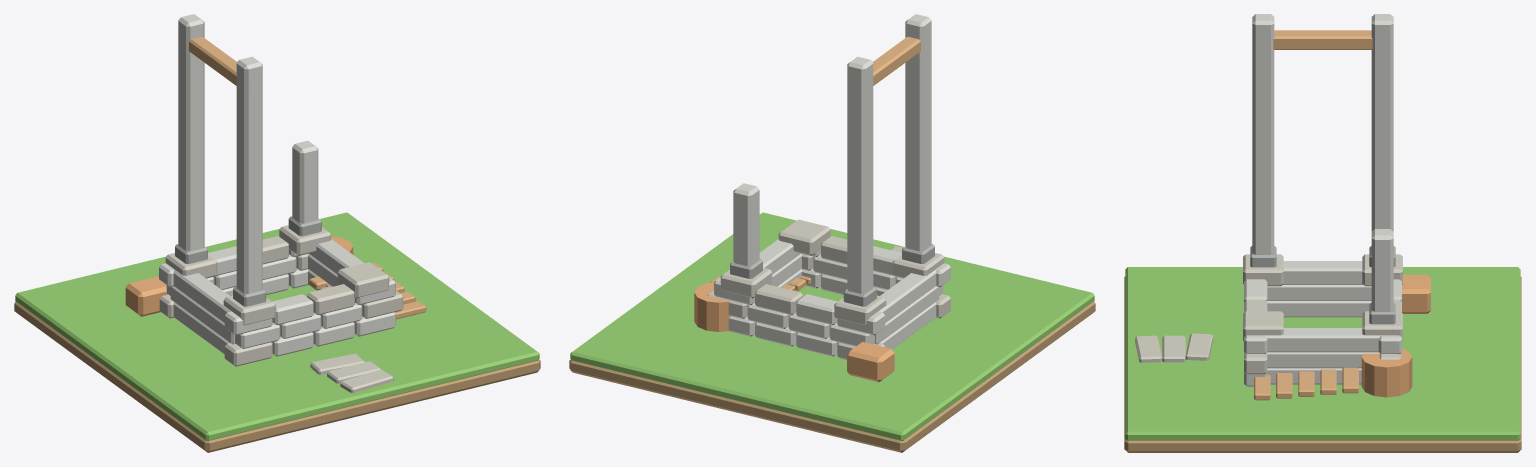
The model's file is tower_l06_construction_LOD0.glb.
3 views of the same model, side by side, from view 1: azimuth 30°, elevation 25°; view 2: azimuth 150°, elevation 25°; view 3: azimuth 270°, elevation 25° (orthographic). The views are drawn at different scales.
Visible parts, largest first — view 1: tower_l06_grass_tile, tower_l06_earth_tile, post_-0.61_-0.54, post_-0.61_0.54, post_0.61_0.54, stone_return_2_-0.72, foot_0.61_-0.54, unmounted_instrument_case, temporary_crossbar, stone_course_2_-1_2, stone_return_1_-0.72, stone_return_2_0.72 (+20 smaller); view 2: tower_l06_grass_tile, tower_l06_earth_tile, post_-0.61_0.54, post_-0.61_-0.54, post_0.61_0.54, unmounted_instrument_case, stone_return_2_-0.72, unmounted_relay_drum, foot_0.61_-0.54, temporary_crossbar, stone_course_2_1_2, stone_return_1_-0.72 (+15 smaller); view 3: tower_l06_grass_tile, tower_l06_earth_tile, post_-0.61_-0.54, post_-0.61_0.54, stone_return_2_0.72, unmounted_relay_drum, temporary_crossbar, stone_return_2_-0.72, post_0.61_0.54, stone_return_1_-0.72, stone_return_1_0.72, stone_return_0_-0.72 (+20 smaller).
Boxes of the visible parts, bbox=[...] form: tower_l06_grass_tile: bbox=[15, 212, 539, 440]; tower_l06_earth_tile: bbox=[14, 301, 540, 452]; post_-0.61_-0.54: bbox=[236, 56, 262, 293]; post_-0.61_0.54: bbox=[178, 14, 204, 251]; post_0.61_0.54: bbox=[292, 140, 318, 223]; stone_return_2_-0.72: bbox=[173, 268, 231, 322]; foot_0.61_-0.54: bbox=[337, 262, 389, 298]; unmounted_instrument_case: bbox=[125, 276, 167, 316]; temporary_crossbar: bbox=[189, 36, 252, 90]; stone_course_2_-1_2: bbox=[307, 284, 354, 314]; stone_return_1_-0.72: bbox=[170, 286, 235, 344]; stone_return_2_0.72: bbox=[309, 239, 363, 274]; tower_l06_grass_tile: bbox=[570, 212, 1094, 440]; tower_l06_earth_tile: bbox=[569, 301, 1095, 452]; post_-0.61_0.54: bbox=[847, 56, 873, 293]; post_-0.61_-0.54: bbox=[905, 14, 931, 251]; post_0.61_0.54: bbox=[733, 183, 759, 266]; unmounted_instrument_case: bbox=[847, 342, 894, 382]; stone_return_2_-0.72: bbox=[878, 268, 936, 322]; unmounted_relay_drum: bbox=[694, 282, 730, 331]; foot_0.61_-0.54: bbox=[778, 219, 830, 255]; temporary_crossbar: bbox=[873, 36, 920, 85]; stone_course_2_1_2: bbox=[755, 284, 802, 314]; stone_return_1_-0.72: bbox=[874, 286, 939, 344]; tower_l06_grass_tile: bbox=[1125, 267, 1520, 440]; tower_l06_earth_tile: bbox=[1124, 276, 1521, 452]; post_-0.61_-0.54: bbox=[1252, 14, 1274, 254]; post_-0.61_0.54: bbox=[1371, 14, 1393, 231]; stone_return_2_0.72: bbox=[1261, 328, 1384, 352]; unmounted_relay_drum: bbox=[1361, 348, 1412, 397]; temporary_crossbar: bbox=[1273, 30, 1372, 49]; stone_return_2_-0.72: bbox=[1283, 261, 1362, 284]; post_0.61_0.54: bbox=[1371, 229, 1393, 311]; stone_return_1_-0.72: bbox=[1267, 285, 1371, 300]; stone_return_1_0.72: bbox=[1266, 352, 1379, 368]; stone_return_0_-0.72: bbox=[1267, 301, 1371, 317].
Bounding box in the file's own units: 3.6 × 3.25 × 3.6.
